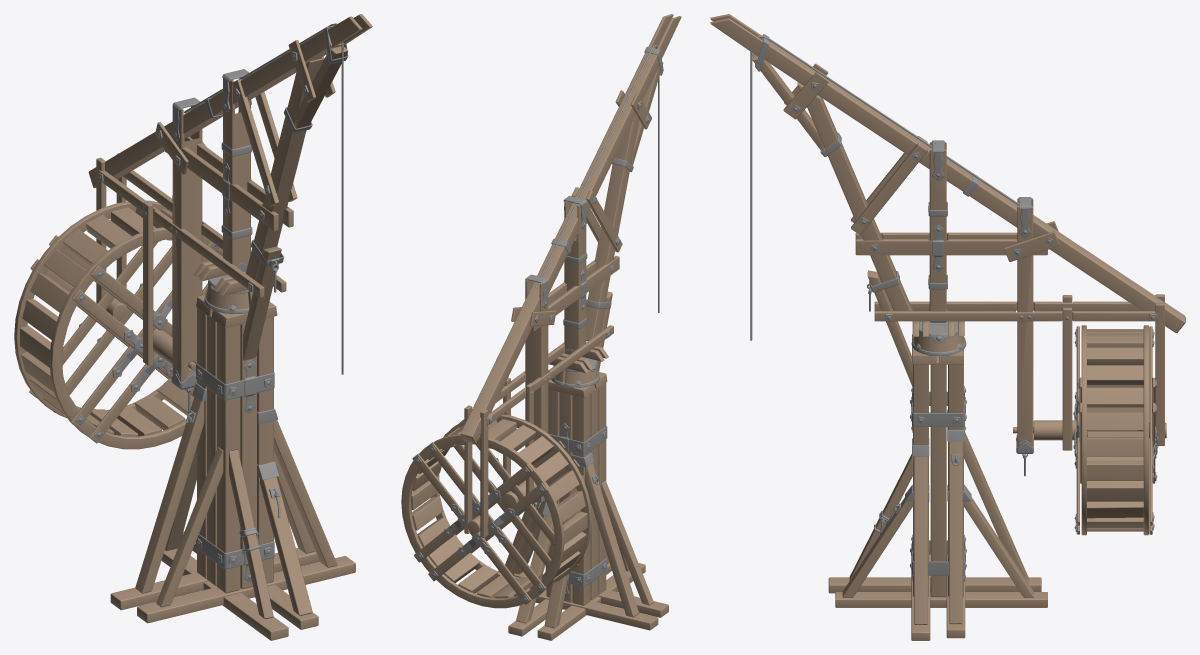
File: build_crane_01.FBX
3 views of the same model, side by side, from view 1: azimuth 30°, elevation 25°; view 2: azimuth 150°, elevation 25°; view 3: azimuth 270°, elevation 25° (orthographic). The views are drawn at different scales.
Visible parts, largest first — view 1: build_crane_01, build_crane_01_wheel; view 2: build_crane_01, build_crane_01_wheel; view 3: build_crane_01, build_crane_01_wheel.
Boxes of the visible parts, x1,y1,x2,y2 form: build_crane_01: (88,14,372,640); build_crane_01_wheel: (14,200,222,449); build_crane_01: (460,14,681,640); build_crane_01_wheel: (401,414,592,608); build_crane_01: (710,14,1185,640); build_crane_01_wheel: (1013,325,1166,535).
Size of the model in its own units: 636 by 1859 by 1376.
